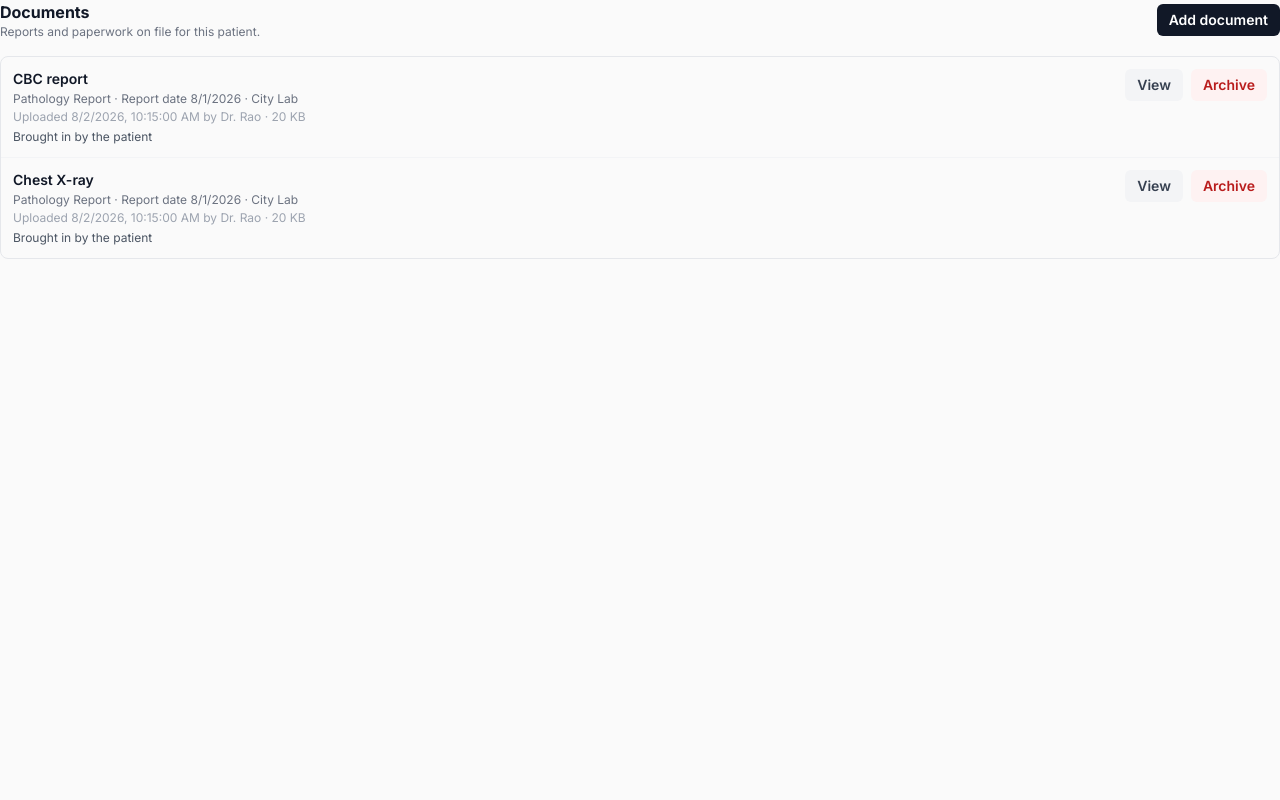
Test: PatientDocumentsPanel › keeps the rows it already had when a refresh fails, minus the one just archived
Expected: the text "CBC report" is shown, [13, 70, 88, 87]
Click the button "Archive" in the row of "CBC report" at (1229,85), box [1191, 69, 1267, 101]
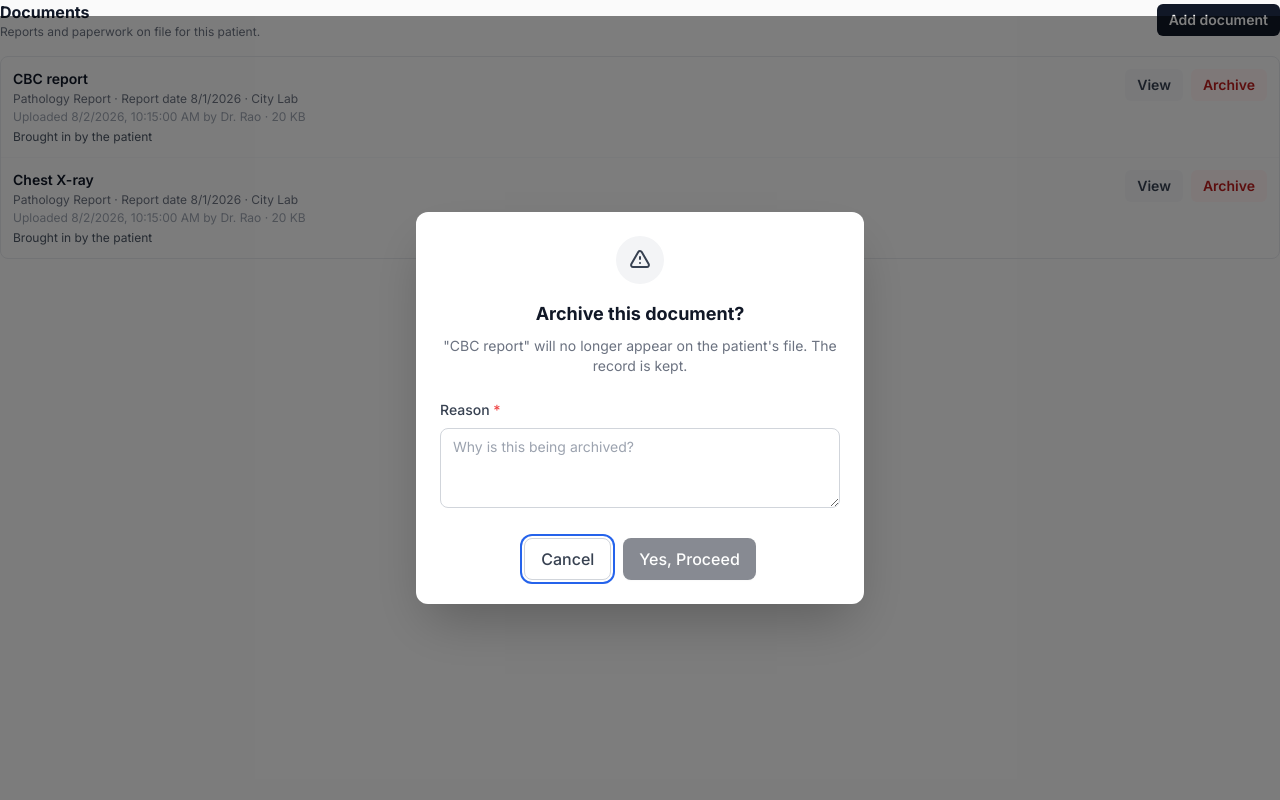
Type "Filed twice" into the text box labelled "Reason *" at (640,468), box [440, 428, 840, 508]
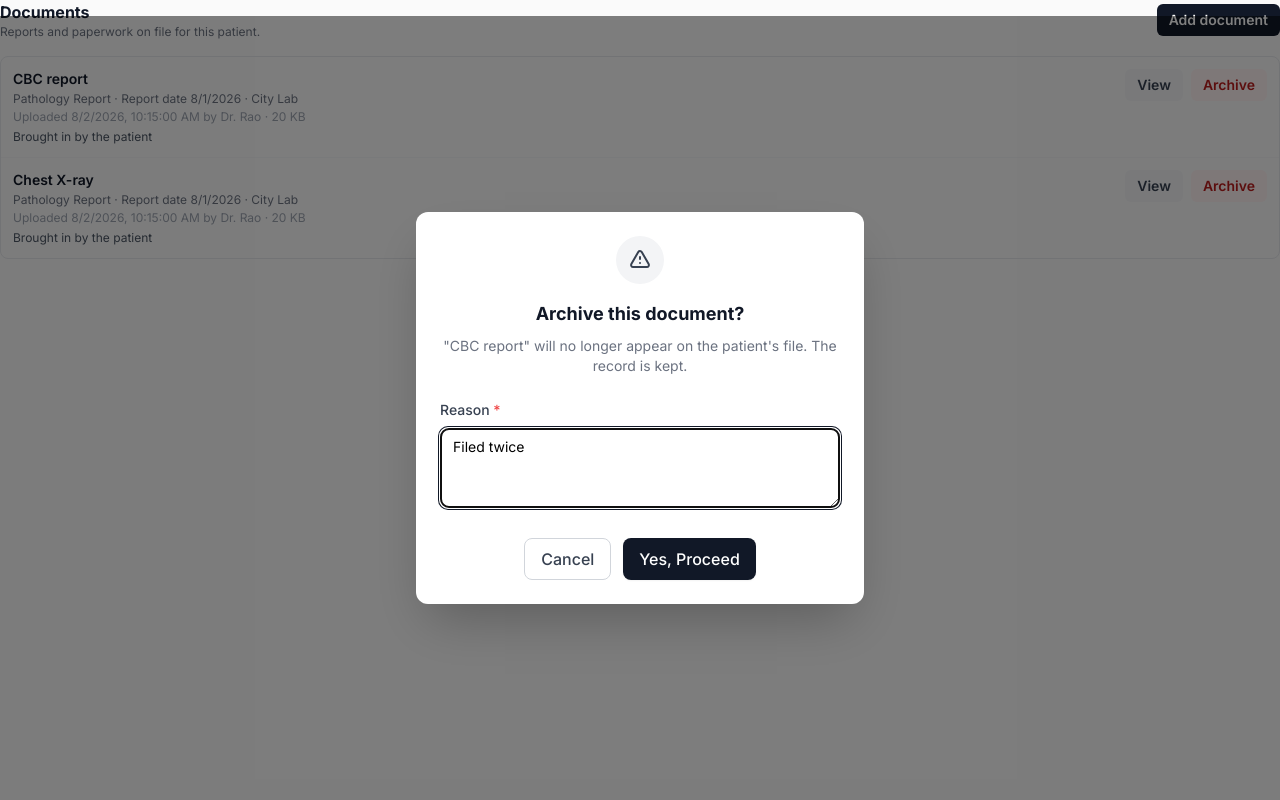
Click the button with aria-label "Confirm action" at (690,559), box [623, 538, 756, 580]
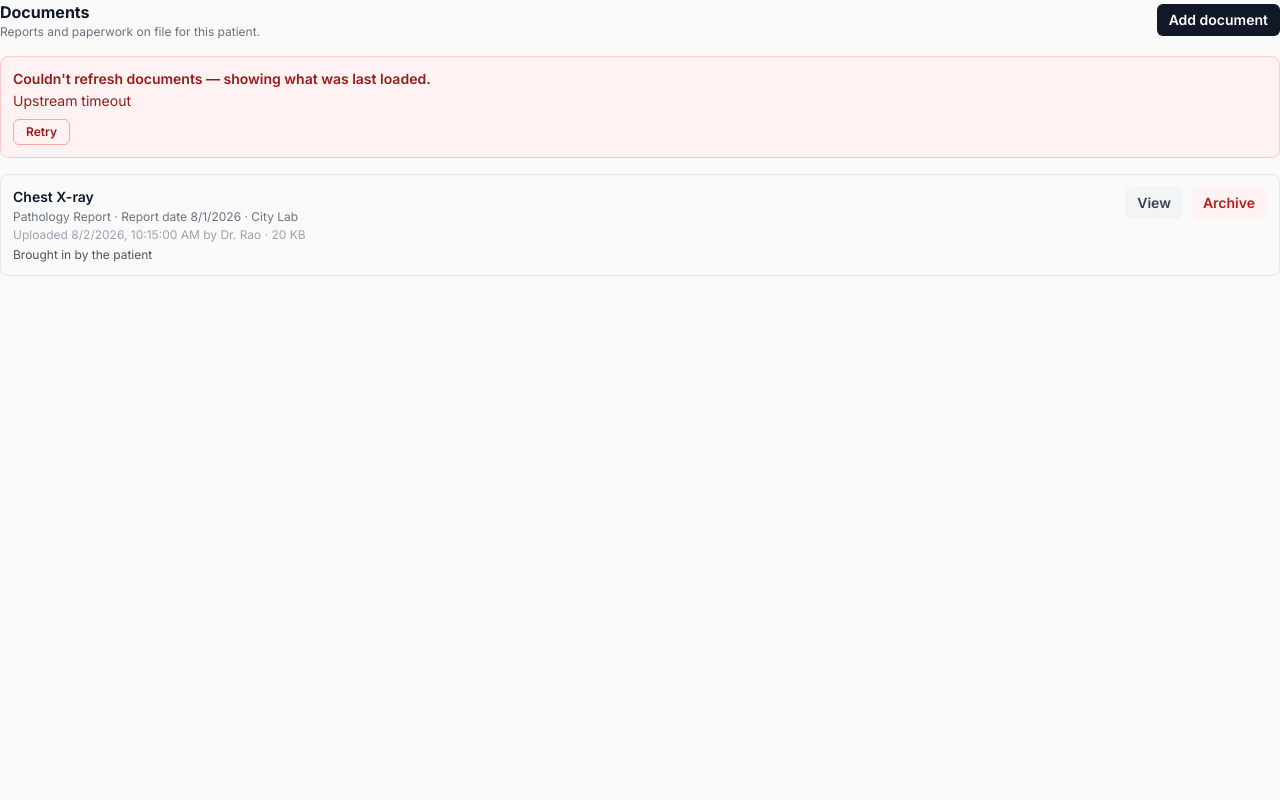
Expected: the message shows "showing what was last loaded", [13, 70, 431, 87]
Expected: the text "CBC report" is gone
Expected: the number of buttons "Archive" is 1, [1191, 187, 1267, 219]
